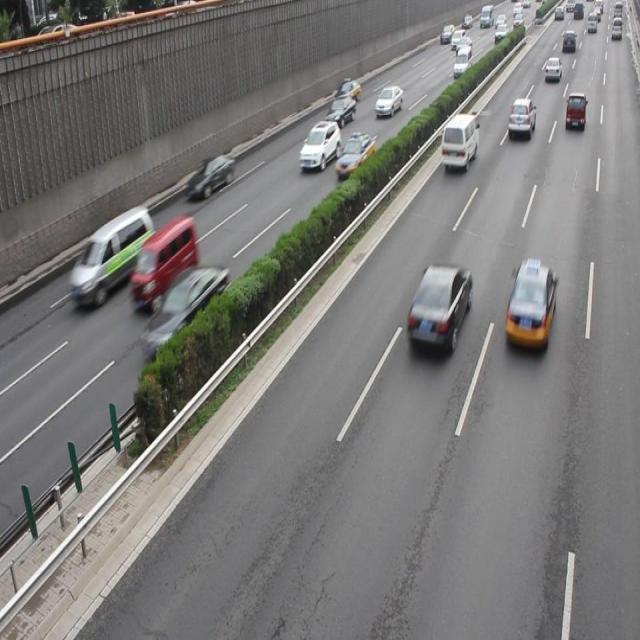car: (141, 263, 228, 354), (405, 262, 471, 352), (504, 260, 556, 349), (185, 153, 233, 201), (298, 118, 340, 169), (334, 131, 374, 178), (506, 98, 534, 138), (324, 96, 356, 128), (373, 85, 402, 116), (563, 92, 585, 130), (332, 78, 360, 105)
truck: (69, 205, 155, 308), (128, 215, 196, 310), (439, 112, 478, 170)
